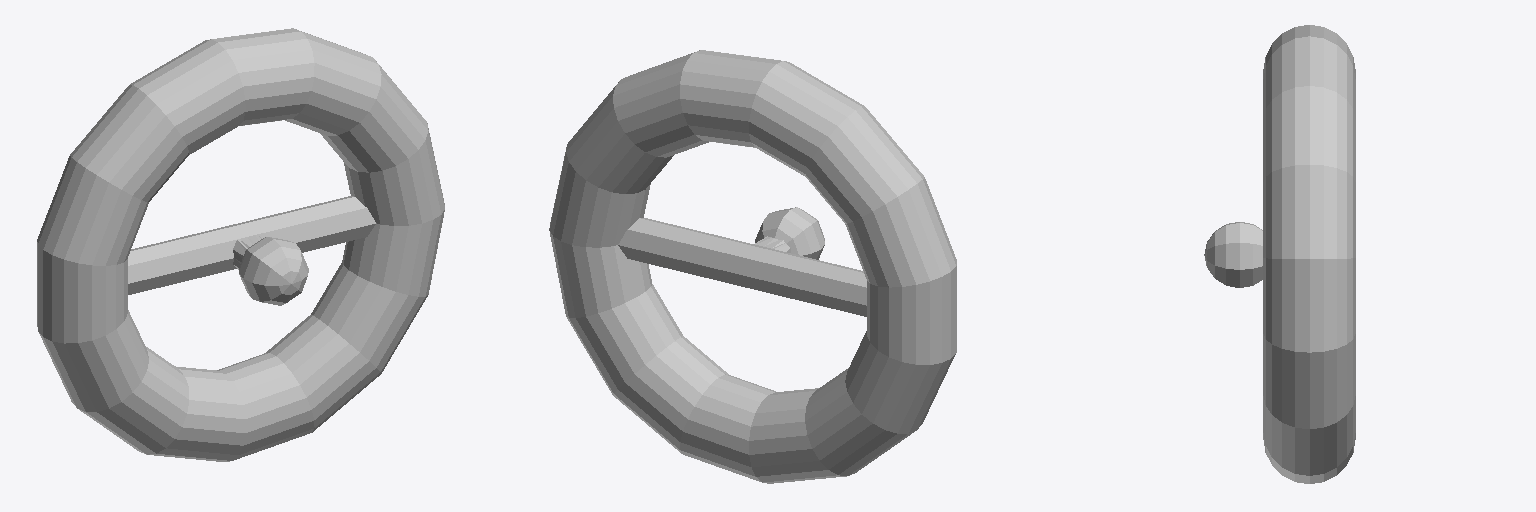
The model's file is turret.obj.
3 renders of one model, left to right at view 1: azimuth 30°, elevation 25°; view 2: azimuth 150°, elevation 25°; view 3: azimuth 270°, elevation 25°, orthographic.
Visible parts, largest first — view 1: Torus; view 2: Torus; view 3: Torus.
Boxes of the visible parts, box(x1,y1,x2,y2) form: Torus: box(37, 28, 444, 461); Torus: box(549, 50, 956, 483); Torus: box(1204, 25, 1355, 483).
Bounding box in the file's own units: 1.85 × 1.86 × 0.6137.